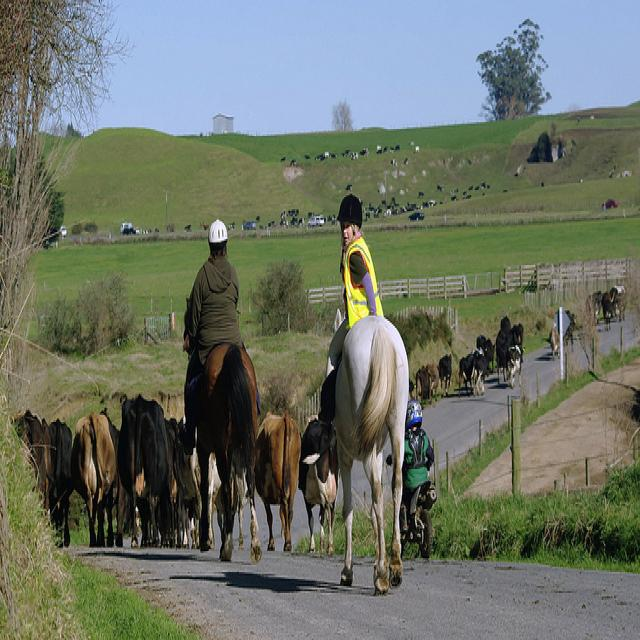motor: (398, 482, 438, 558)
